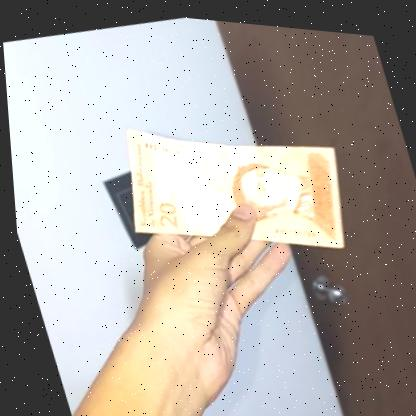twenty-front-vef: (98, 78, 363, 288)
